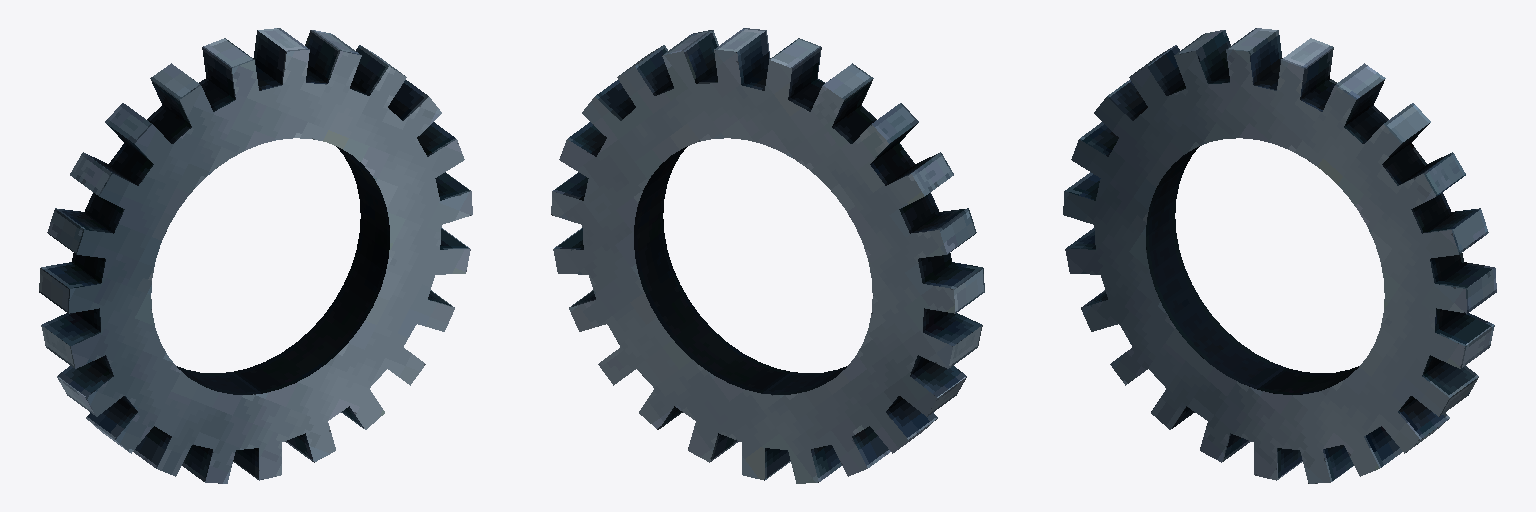
The picture shows the model from 3 angles: view 1: azimuth 30°, elevation 25°; view 2: azimuth 150°, elevation 25°; view 3: azimuth 330°, elevation 25°; orthographic projection.
Visible parts, largest first — view 1: Gear1; view 2: Gear1; view 3: Gear1.
Boxes of the visible parts, <box> form: Gear1: <box>39,28,472,483</box>; Gear1: <box>551,28,984,483</box>; Gear1: <box>1063,28,1496,483</box>.
Size of the model in its own units: 2.02 by 2.01 by 0.2564.
1 materials, 1 textured.